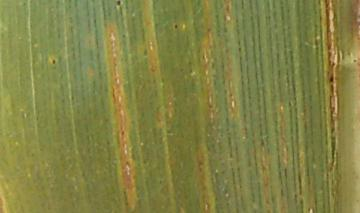tarspot: (172, 22, 179, 30), (51, 57, 57, 66), (115, 1, 122, 7)
